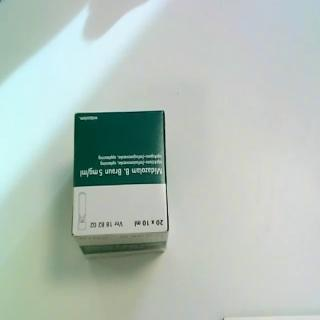midazolam5mg_ml: (71, 110, 171, 261)
